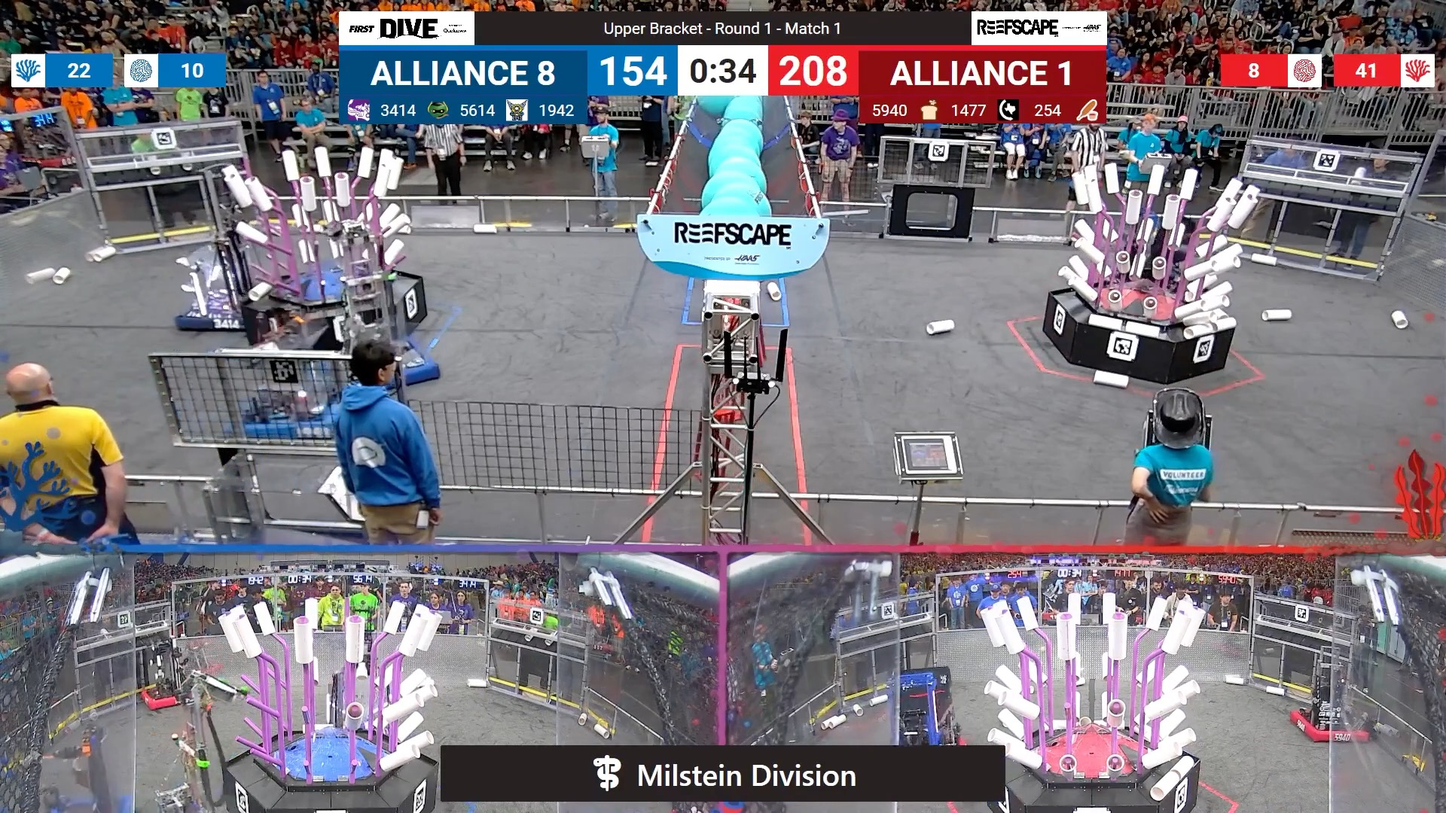bumpers: (247, 372, 356, 452), (332, 339, 449, 392), (1277, 705, 1373, 750), (179, 293, 265, 338), (33, 789, 142, 813), (133, 682, 201, 712)
